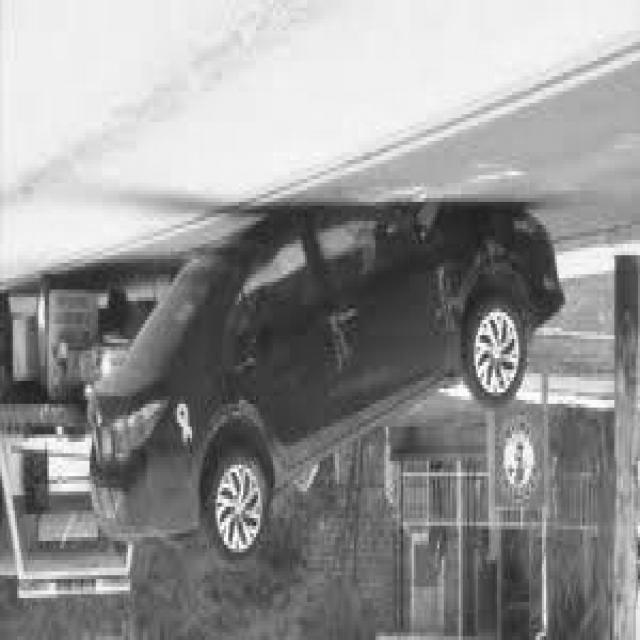severe: (79, 188, 566, 562)
